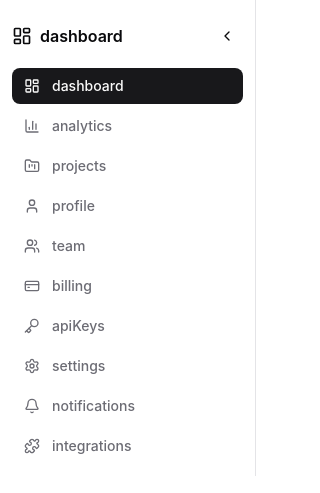
Test case: DashboardSidebar › 折叠按钮暴露可访问名称、展开状态与受控区域（G07）
The image size is (320, 493).
Expected: the navigation bar with id "dashboard-sidebar-nav" is shown, left=12, top=68, right=243, bottom=464
Click the button named "collapseSidebar" at (227, 36), box left=211, top=20, right=243, bottom=52
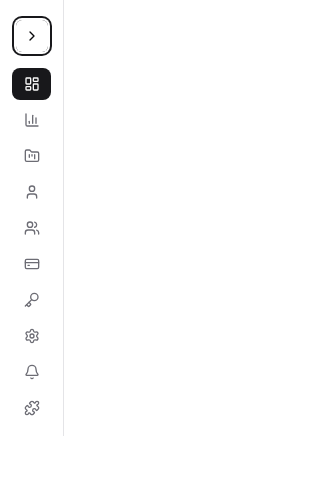
Now the button named "expandSidebar" is collapsed, box left=16, top=20, right=48, bottom=52
